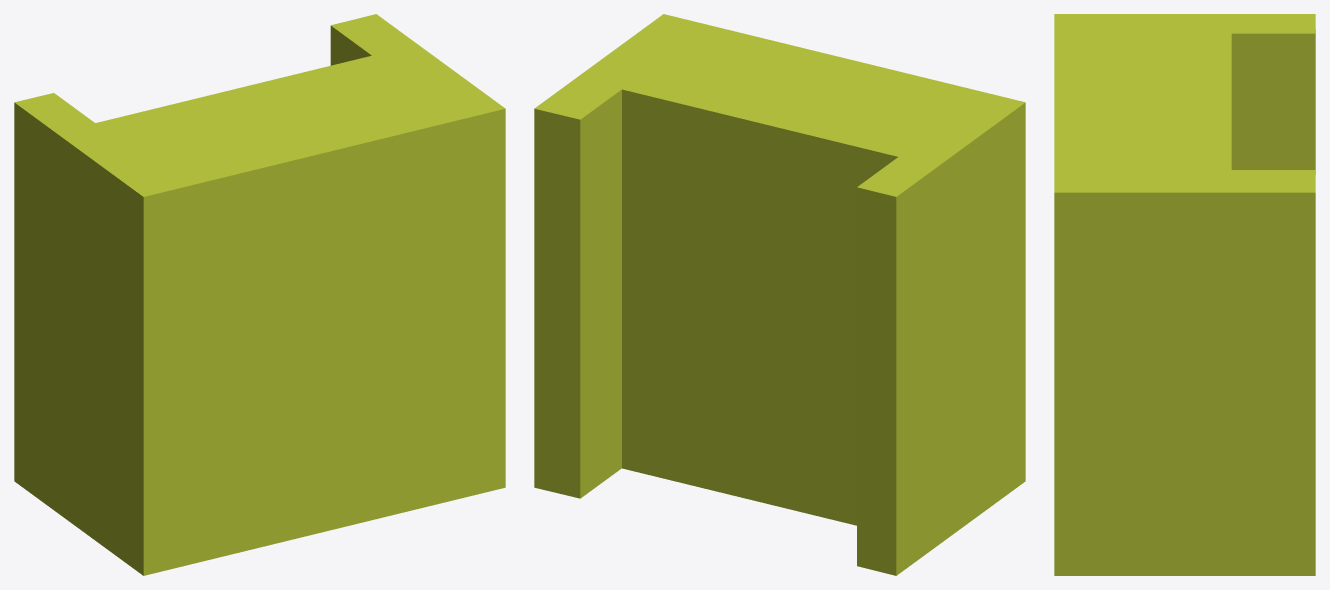
File: StageWay.fbx
The picture shows the model from 3 angles, left to right: view 1: azimuth 30°, elevation 25°; view 2: azimuth 150°, elevation 25°; view 3: azimuth 270°, elevation 25°; orthographic projection.
Parts seen in each view (by area): view 1: StageWay; view 2: StageWay; view 3: StageWay.
Part boxes in pixels (x1,y1,x2,y2): StageWay: (14,14,505,575); StageWay: (534,14,1025,575); StageWay: (1054,14,1315,575).
Bounding box in the file's own units: 195 × 195 × 120.
